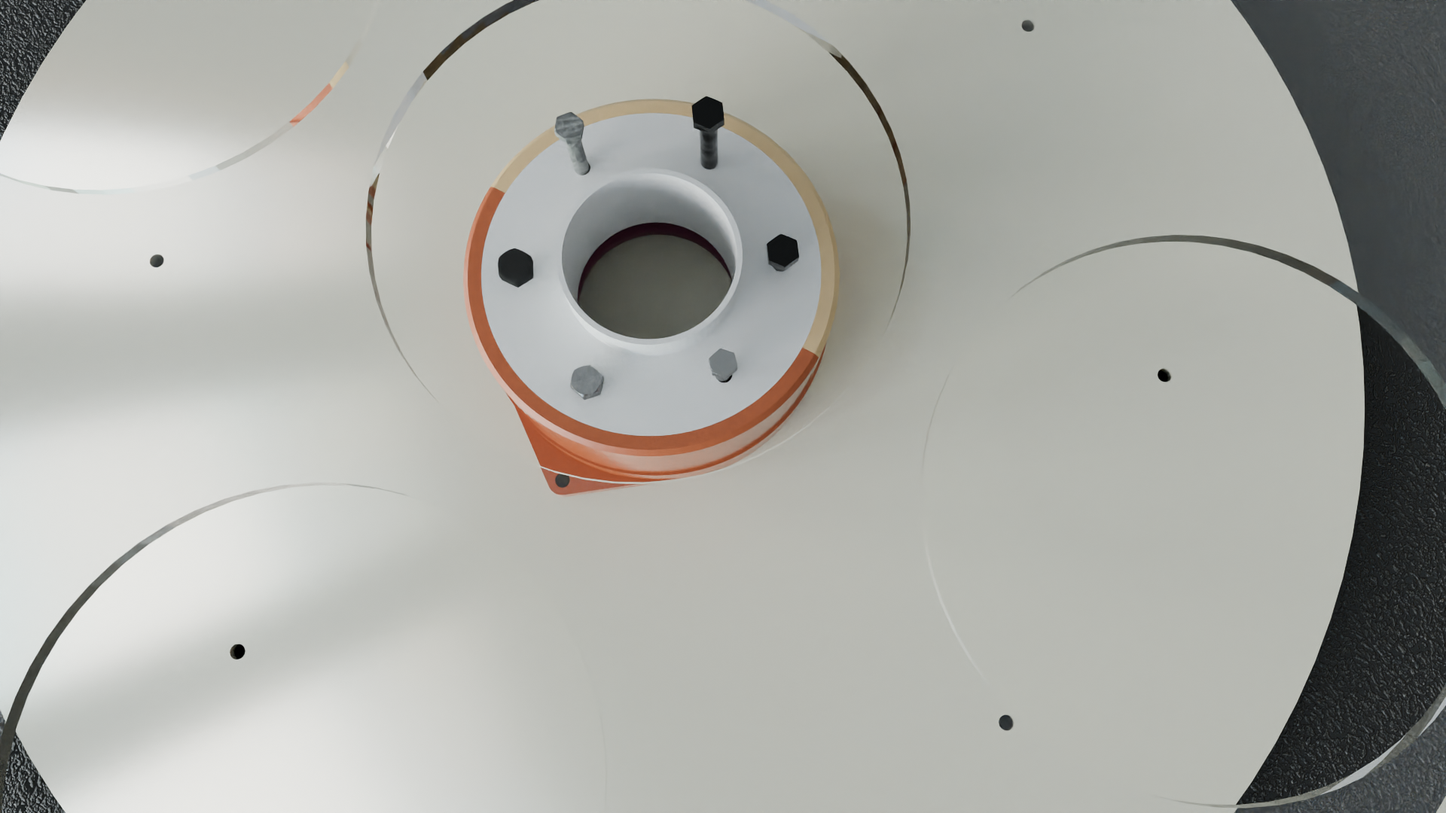bolt: (498, 248, 531, 283), (691, 96, 725, 129), (767, 233, 799, 267), (570, 365, 602, 397), (554, 112, 583, 140), (709, 349, 737, 377)
